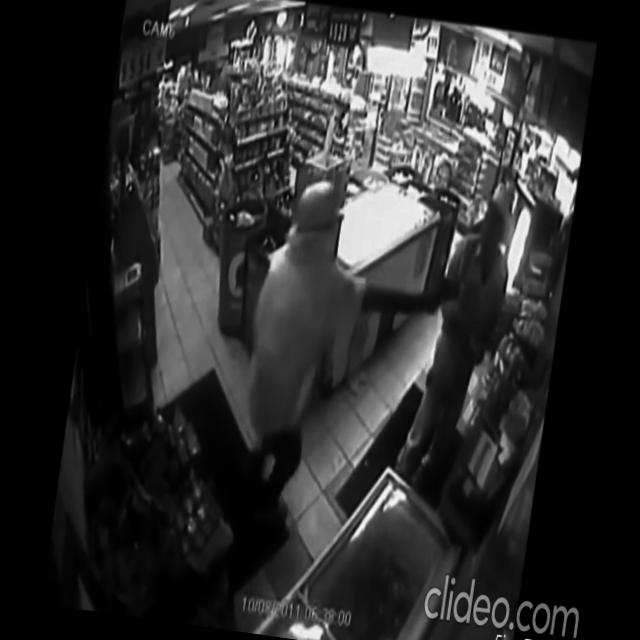gun: (426, 268, 464, 314)
person: (218, 168, 456, 552), (386, 170, 525, 522)
person with a gun: (219, 165, 476, 556)
